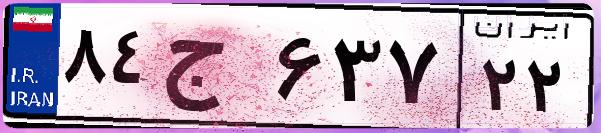2: (475, 38, 525, 113), (525, 38, 570, 115)
3: (330, 28, 385, 110)
4: (110, 28, 158, 98)
6: (270, 28, 330, 110)
7: (385, 28, 445, 110)
8: (57, 26, 110, 100)
ج: (158, 20, 270, 120)
